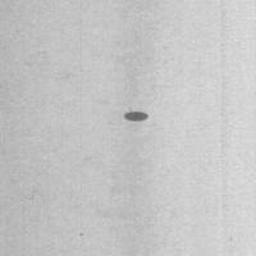Oil spot: (123, 110, 148, 122)
